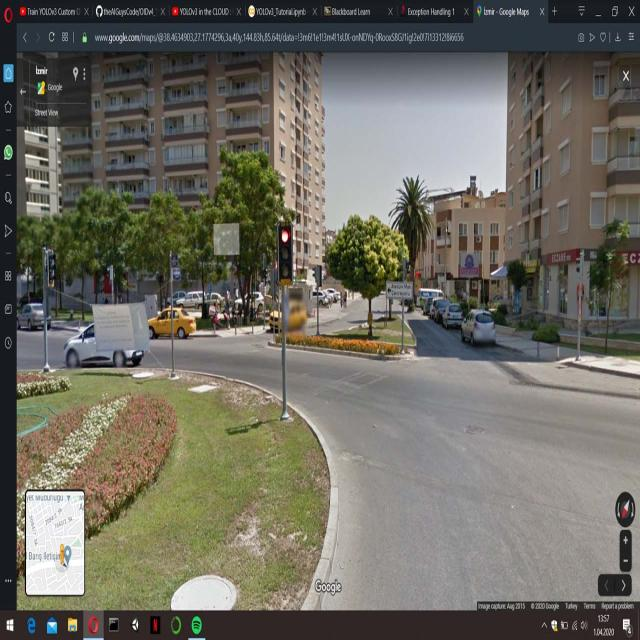kirmizi: (278, 224, 292, 282)
